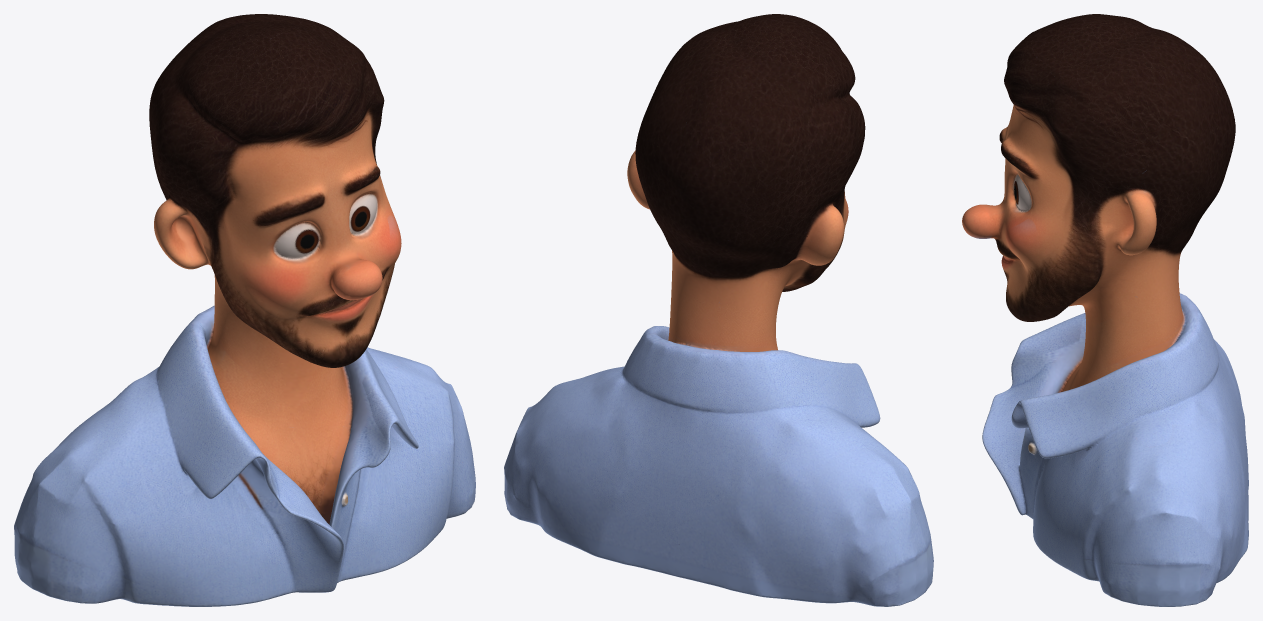
File: head.glb
The picture shows the model from 3 angles, left to right: view 1: azimuth 30°, elevation 25°; view 2: azimuth 150°, elevation 25°; view 3: azimuth 270°, elevation 25°; orthographic projection. The views are drawn at different scales.
Size of the model in its own units: 1.62 by 1.9 by 1.01.
Materials: 1 (1 with a texture image).
